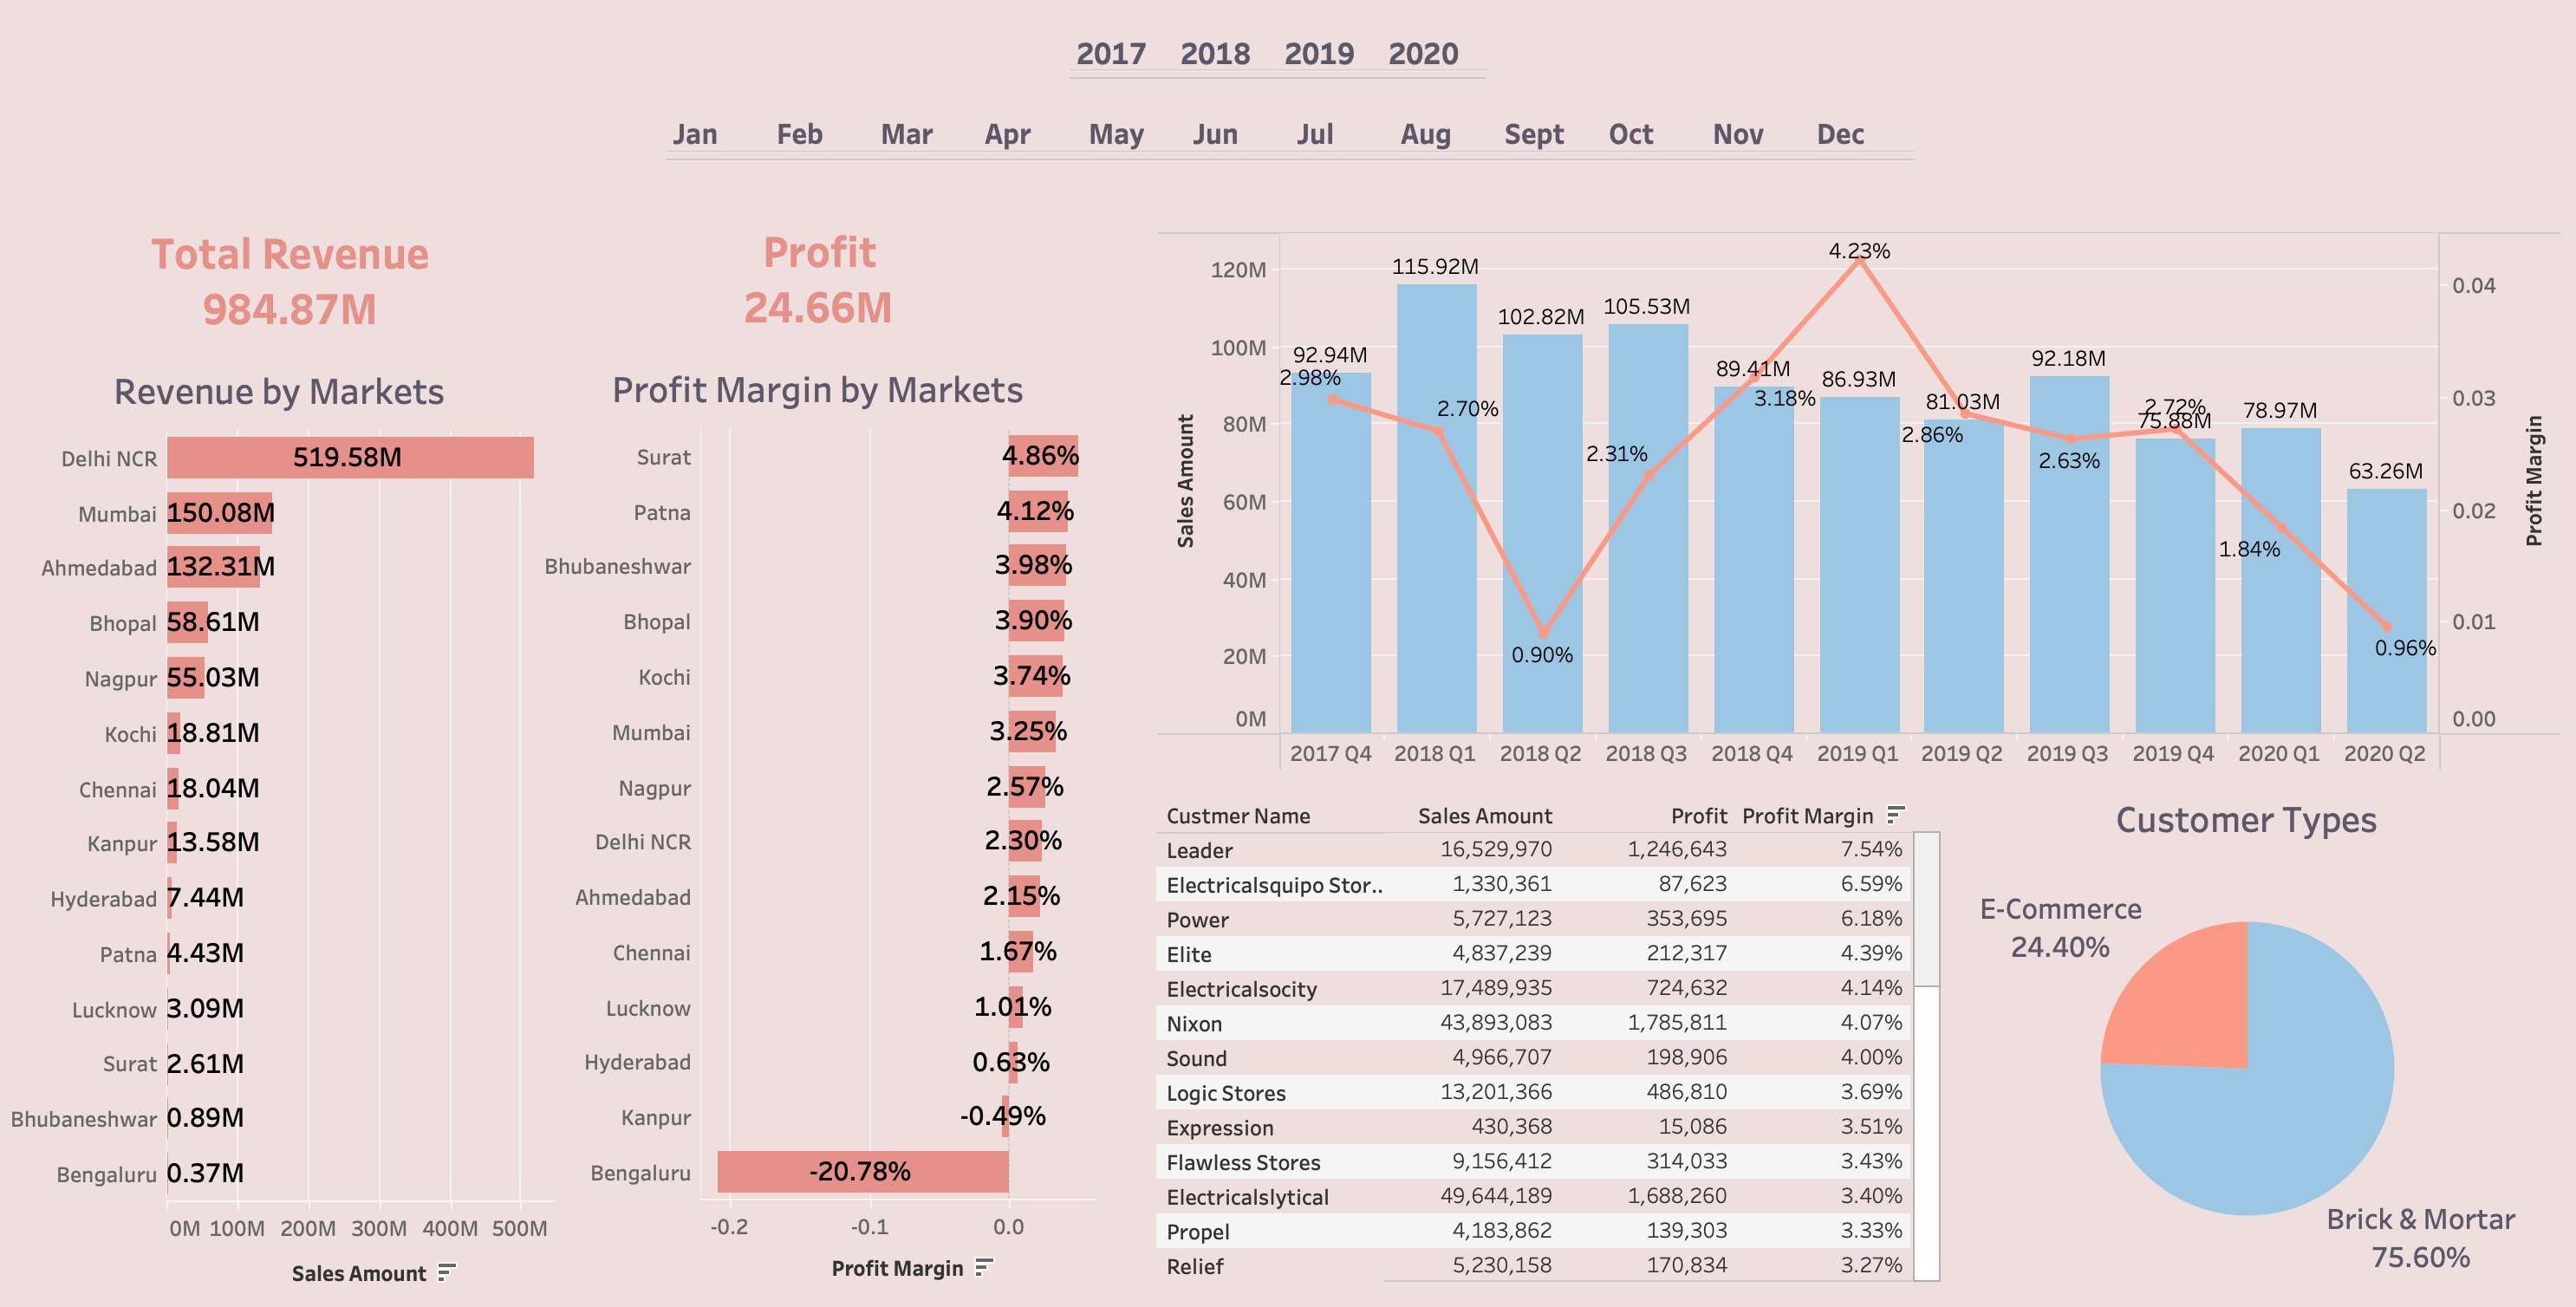

This screenshot's page, from the dashboard's own definition file:
{"tool":"tableau","page":{"name":"Dashboard - Profit Analysis","canvas":[1000,1000],"units":"permille","ordinal":0},"visuals":[{"type":"worksheet","title":"Year","mark":"Automatic","cols":["cy_date"],"box":[415.2,26.5,172.3,95.5]},{"type":"worksheet","title":"Month","mark":"Automatic","cols":["cy_date"],"box":[258.4,88.9,557.2,100.8]},{"type":"worksheet","title":"Profit","mark":"Automatic","box":[284.7,169.8,82.8,95.5]},{"type":"worksheet","title":"Revenue","mark":"Automatic","box":[52.5,171.1,170.3,96.8]},{"type":"worksheet","title":"Profit Trend","mark":"Bar","rows":["Calculation_6357112367826554880","Calculation_1644799045287088128"],"cols":["cy_date"],"box":[449.5,177.7,545.1,412.5]},{"type":"worksheet","title":"Profit Margin by Markets","mark":"Automatic","rows":["markets_name"],"cols":["Calculation_1644799045287088128"],"box":[210,270.6,215.3,720.2]},{"type":"worksheet","title":"Revenue by Markets","mark":"Automatic","rows":["markets_name"],"cols":["Calculation_6357112367826554880"],"box":[2.7,271.9,212,722.8]},{"type":"worksheet","title":"Pie Chart","mark":"Pie","box":[767.2,599.5,210.6,379.3]},{"type":"worksheet","title":"Customer Table","mark":"Automatic","rows":["custmer_name"],"box":[448.9,610.1,347.9,371.4]}]}

Visuals, with their boxes on the dashboard's canvas, which has no fixed pixel size, in thousandths of its width and height (x1, y1, x2, y2). These are canvas units, not pixel positions in the 2576x1307 screenshot, which may show the page scaled, cropped or inside an application window:
"Year" worksheet: x1=415 y1=26 x2=588 y2=122
"Month" worksheet: x1=258 y1=89 x2=816 y2=190
"Profit" worksheet: x1=285 y1=170 x2=368 y2=265
"Revenue" worksheet: x1=52 y1=171 x2=223 y2=268
"Profit Trend" worksheet (Bar marks): x1=450 y1=178 x2=995 y2=590
"Profit Margin by Markets" worksheet: x1=210 y1=271 x2=425 y2=991
"Revenue by Markets" worksheet: x1=3 y1=272 x2=215 y2=995
"Pie Chart" worksheet (Pie marks): x1=767 y1=600 x2=978 y2=979
"Customer Table" worksheet: x1=449 y1=610 x2=797 y2=982
